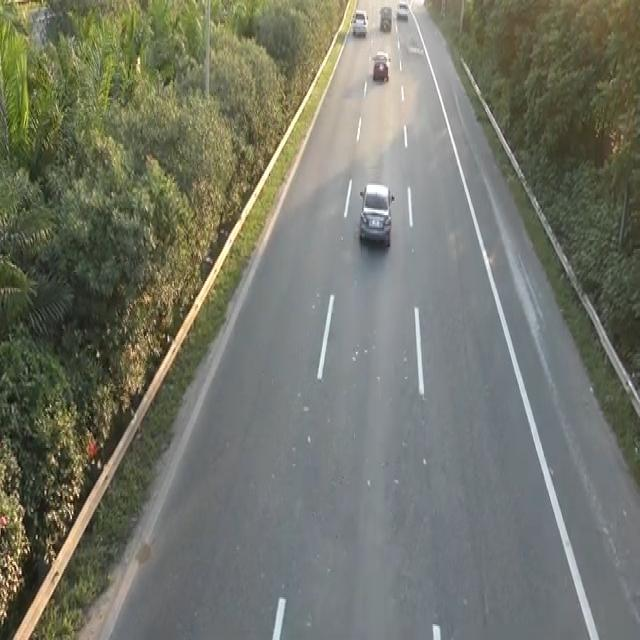bus: (356, 178, 397, 254), (371, 50, 390, 82)
